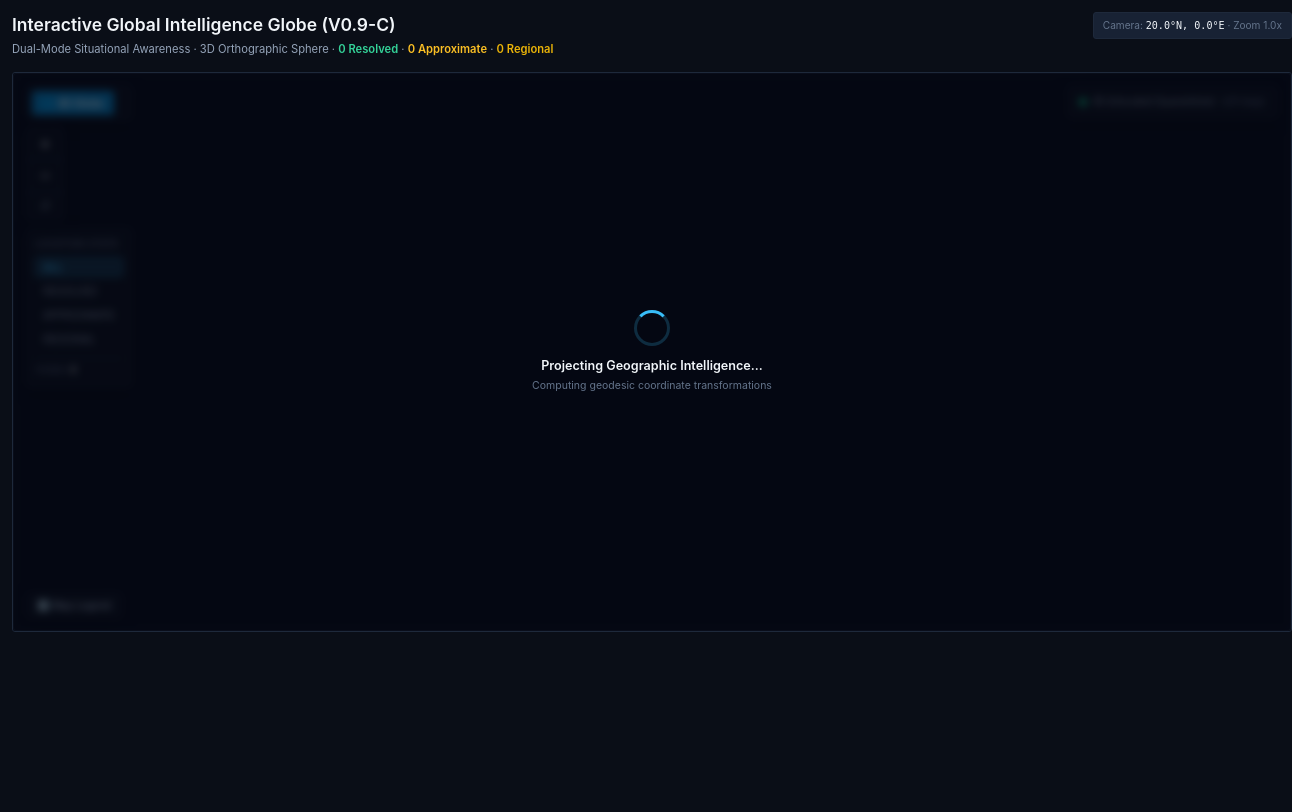
Test case: GeoMapView Component Suite (V0.9-C) › toggles between 3D Orthographic and 2D Equirectangular views while preserving camera state
The width and height of the screenshot is (1292, 812).
Click the button "🌐 3D Globe" at (73, 103), box left=32, top=91, right=114, bottom=115
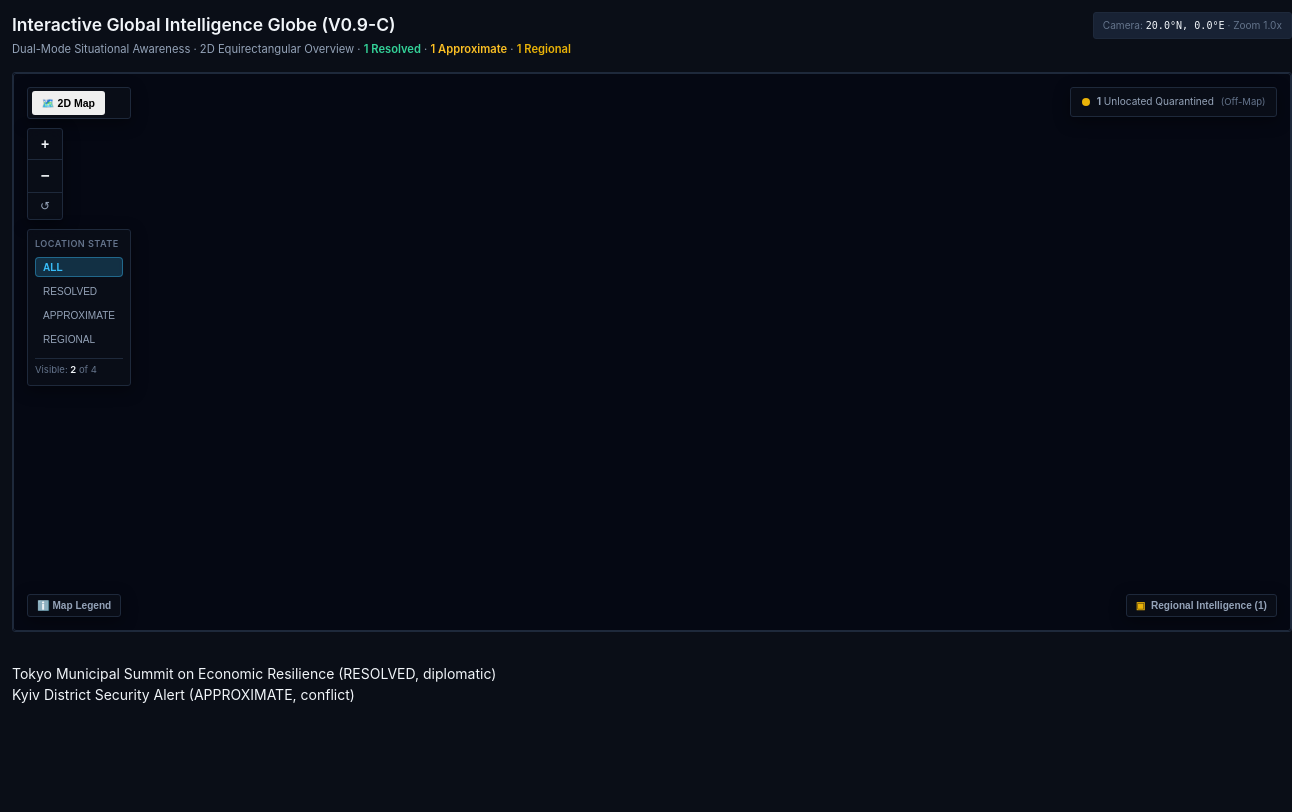
Expected: the text "20.0°N, 0.0°E" is shown, left=1146, top=20, right=1225, bottom=31
Expected: the button "🗺️ 2D Map" is shown
Click the button "🗺️ 2D Map" at (68, 103), box left=32, top=91, right=105, bottom=115
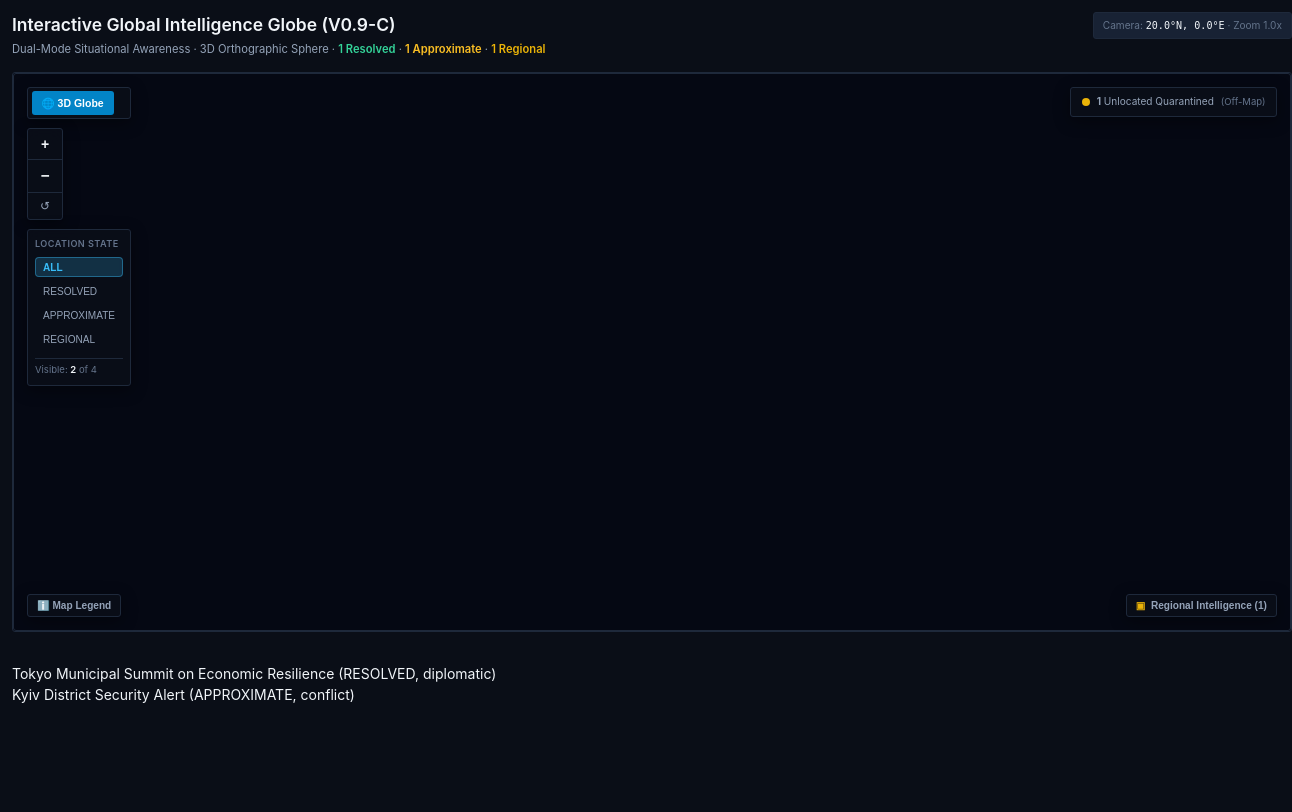
Expected: the text "20.0°N, 0.0°E" is shown, left=1146, top=20, right=1225, bottom=31
Expected: the button "🌐 3D Globe" is shown, left=32, top=91, right=114, bottom=115
